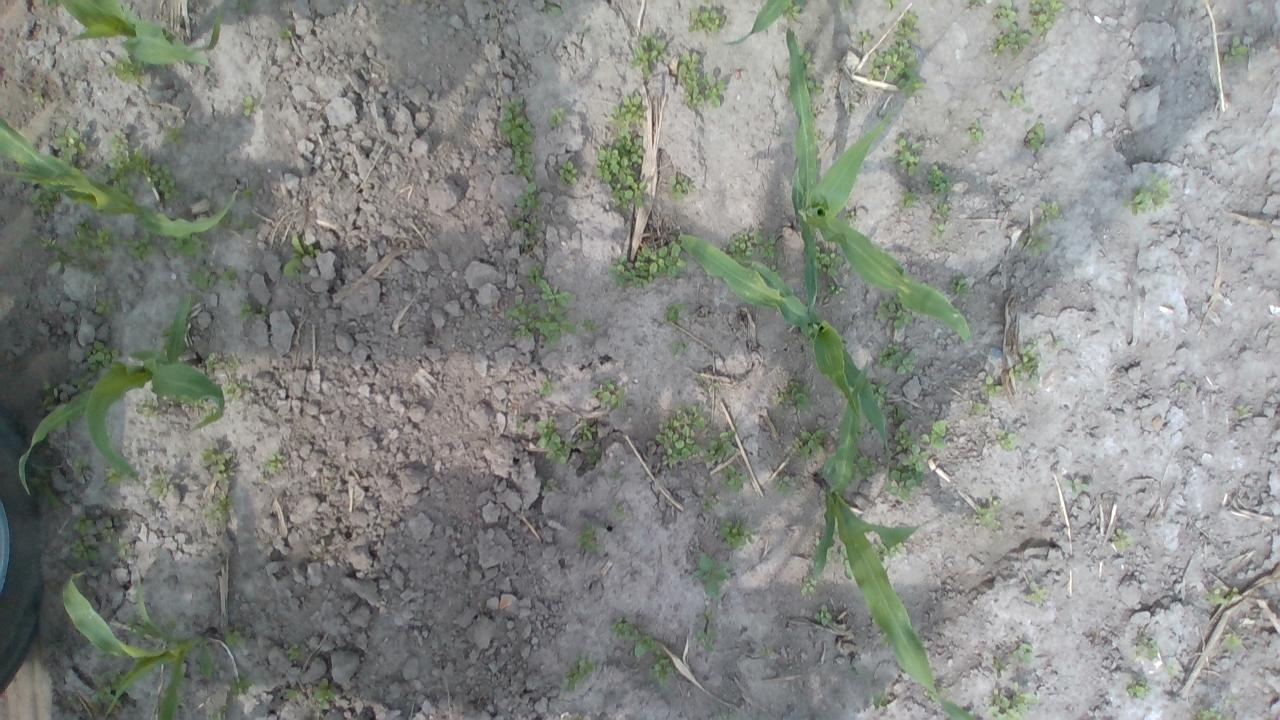Maize: (809, 356, 978, 720), (781, 24, 972, 343), (679, 231, 890, 434), (18, 299, 225, 490), (0, 117, 237, 244), (61, 569, 215, 720), (55, 0, 222, 70), (730, 0, 806, 46)
Weeds: (881, 404, 930, 504), (38, 218, 120, 276), (593, 132, 648, 209), (607, 241, 689, 291), (92, 134, 149, 204), (503, 297, 578, 350), (676, 50, 732, 110), (864, 42, 925, 97), (654, 404, 704, 466), (498, 96, 536, 176), (526, 262, 576, 314), (50, 123, 90, 175), (534, 416, 577, 464), (724, 230, 781, 266), (812, 239, 848, 296), (87, 669, 129, 715), (1124, 174, 1170, 216), (692, 552, 732, 600), (280, 234, 320, 280), (631, 31, 668, 79), (984, 687, 1034, 720), (70, 514, 103, 562), (876, 342, 920, 376), (146, 161, 182, 202), (991, 23, 1031, 59), (612, 90, 646, 132), (891, 136, 925, 178), (188, 264, 238, 292), (776, 379, 817, 413), (844, 442, 878, 481), (80, 340, 120, 373), (1010, 340, 1040, 384), (23, 186, 64, 218), (1027, 0, 1063, 36), (201, 445, 236, 480), (166, 231, 210, 258), (875, 296, 912, 328), (889, 8, 923, 42), (124, 232, 160, 264), (695, 608, 720, 652), (102, 518, 130, 556), (514, 182, 545, 216), (107, 54, 149, 79), (646, 654, 677, 687), (720, 518, 754, 548), (704, 431, 739, 460), (688, 7, 727, 32), (566, 655, 594, 688), (1224, 33, 1252, 66), (590, 382, 624, 409), (921, 416, 948, 450), (796, 430, 826, 460), (974, 498, 1002, 530), (667, 173, 696, 203), (608, 615, 642, 640), (574, 522, 602, 552), (924, 166, 954, 194), (1018, 230, 1048, 258), (1022, 118, 1046, 152), (724, 463, 750, 494), (39, 382, 67, 410), (204, 494, 232, 522), (990, 0, 1020, 26), (148, 470, 174, 499), (104, 463, 135, 487), (313, 678, 336, 710), (70, 368, 98, 393), (1036, 200, 1060, 229), (126, 614, 152, 640), (1205, 587, 1240, 606), (92, 295, 120, 318), (230, 670, 252, 698), (134, 397, 160, 420), (1132, 636, 1158, 659), (558, 160, 580, 187), (782, 0, 809, 22), (994, 429, 1018, 453), (1124, 678, 1150, 700), (869, 382, 890, 408), (872, 542, 902, 560), (260, 452, 284, 474), (949, 273, 970, 298), (634, 634, 657, 656), (225, 382, 250, 402), (1024, 581, 1047, 602), (160, 124, 184, 144), (1192, 708, 1232, 720), (538, 0, 566, 17), (547, 105, 568, 127), (1005, 85, 1026, 107), (981, 374, 1001, 397), (1112, 527, 1131, 551), (896, 190, 920, 209), (508, 218, 540, 232), (841, 547, 854, 579), (696, 376, 720, 393), (964, 124, 984, 144), (223, 626, 241, 648), (237, 302, 256, 322), (72, 457, 90, 478), (237, 186, 258, 204), (1011, 646, 1032, 664), (240, 95, 256, 118), (814, 607, 833, 626), (806, 77, 825, 96), (665, 302, 683, 322), (211, 703, 231, 720), (1222, 632, 1242, 649), (206, 353, 226, 370), (1064, 478, 1088, 492), (775, 476, 792, 495), (800, 575, 817, 594), (796, 46, 812, 66), (702, 491, 716, 513), (538, 378, 555, 395), (935, 202, 953, 218), (580, 424, 596, 442), (930, 222, 946, 239), (1164, 662, 1181, 678), (542, 479, 560, 494), (237, 218, 257, 231), (873, 694, 888, 711), (842, 209, 857, 226), (854, 30, 872, 44), (813, 526, 825, 547), (32, 88, 46, 106), (277, 25, 293, 40), (587, 446, 600, 464), (218, 209, 232, 225), (614, 503, 626, 521), (994, 657, 1008, 672), (582, 318, 596, 332), (239, 0, 255, 12), (972, 402, 988, 414), (1224, 695, 1240, 707), (1234, 404, 1248, 417), (838, 0, 853, 12), (716, 711, 736, 720), (285, 646, 301, 657), (882, 0, 898, 11), (671, 342, 688, 352), (46, 0, 60, 12), (770, 264, 781, 276), (260, 304, 268, 320), (194, 398, 208, 407), (515, 422, 523, 434), (286, 687, 296, 696), (974, 0, 986, 6)
